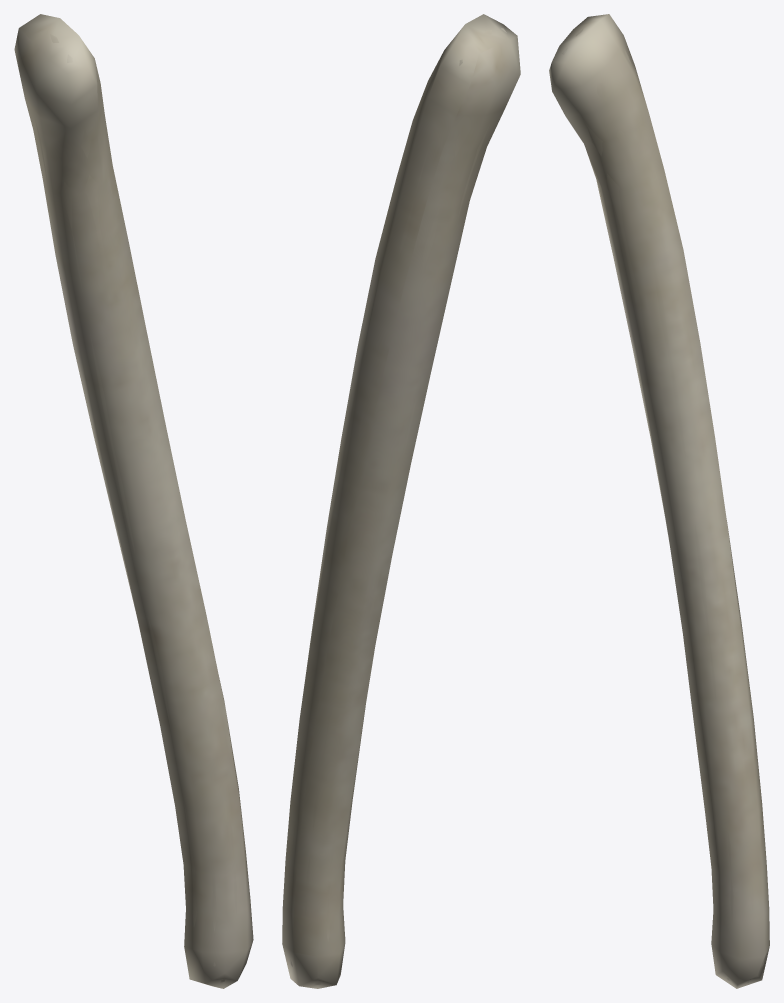
File: Rib L01.fbx
The picture shows the model from 3 angles, left to right: view 1: azimuth 30°, elevation 25°; view 2: azimuth 150°, elevation 25°; view 3: azimuth 330°, elevation 25°; orthographic projection. The views are drawn at different scales.
Visible parts, largest first — view 1: Rib L01 low, Rib L01; view 2: Rib L01 low, Rib L01; view 3: Rib L01 low, Rib L01.
Part boxes in pixels (x1,y1,x2,y2): Rib L01 low: (14,14,253,988); Rib L01: (35,34,248,982); Rib L01 low: (282,14,520,988); Rib L01: (288,28,506,985); Rib L01 low: (549,14,769,988); Rib L01: (562,28,765,982).
Size of the model in its own units: 1.06 by 4.5 by 0.4947.
Materials: 1 (1 with a texture image).
